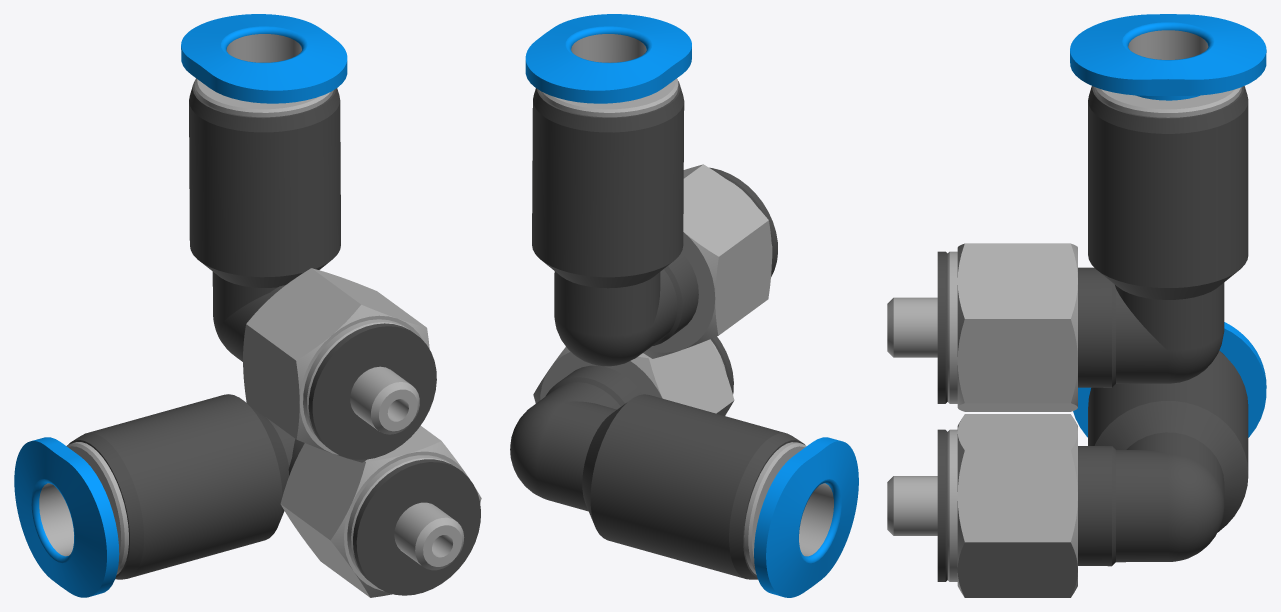
Rendered from cylinder_connectors_v2.obj.
3 renders of one model, left to right at view 1: azimuth 30°, elevation 25°; view 2: azimuth 150°, elevation 25°; view 3: azimuth 270°, elevation 25°, orthographic. The views are drawn at different scales.
Parts seen in each view (by area): view 1: Solid2, Solid2:1; view 2: Solid2, Solid2:1; view 3: Solid2, Solid2:1.
Part boxes in pixels (x1,y1,x2,y2): Solid2: (181,14,436,462); Solid2:1: (14,394,481,597); Solid2: (525,14,777,366); Solid2:1: (510,336,858,597); Solid2: (887,14,1266,411); Solid2:1: (887,322,1266,597).
Bounding box in the file's own units: 0.0204 × 0.0287 × 0.0189.
